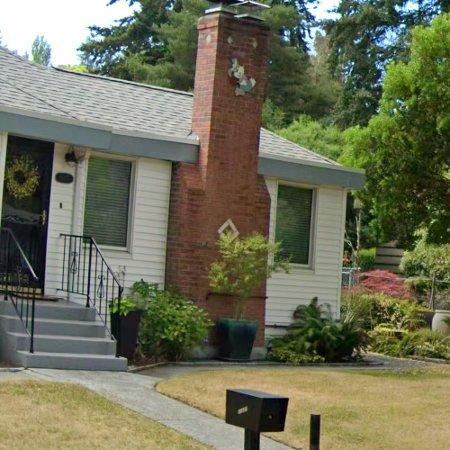chimneys: (166, 4, 270, 320)
stairs: (0, 239, 127, 370)
